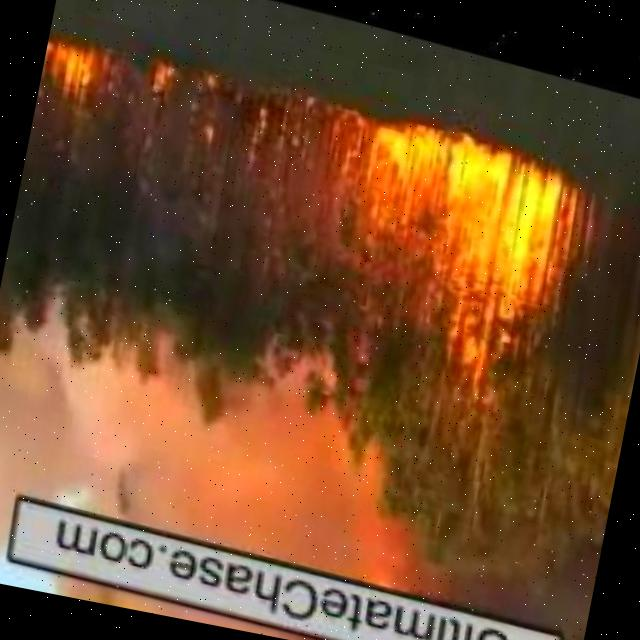fire: (336, 99, 599, 343), (37, 37, 112, 110), (154, 64, 183, 96)
